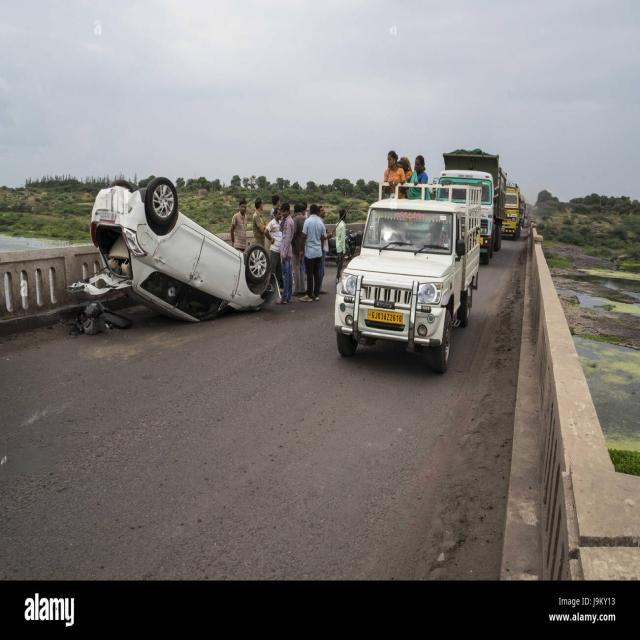accident: (69, 177, 269, 321)
car: (335, 185, 481, 372)
truck: (438, 149, 506, 263), (502, 183, 521, 240)
